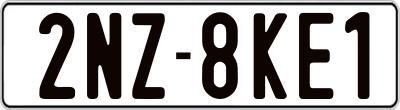1: (343, 11, 373, 102)
2: (38, 12, 76, 103)
8: (199, 12, 236, 104)
E: (297, 11, 335, 101)
K: (253, 11, 291, 99)
N: (86, 12, 125, 103)
Z: (132, 12, 166, 104)
